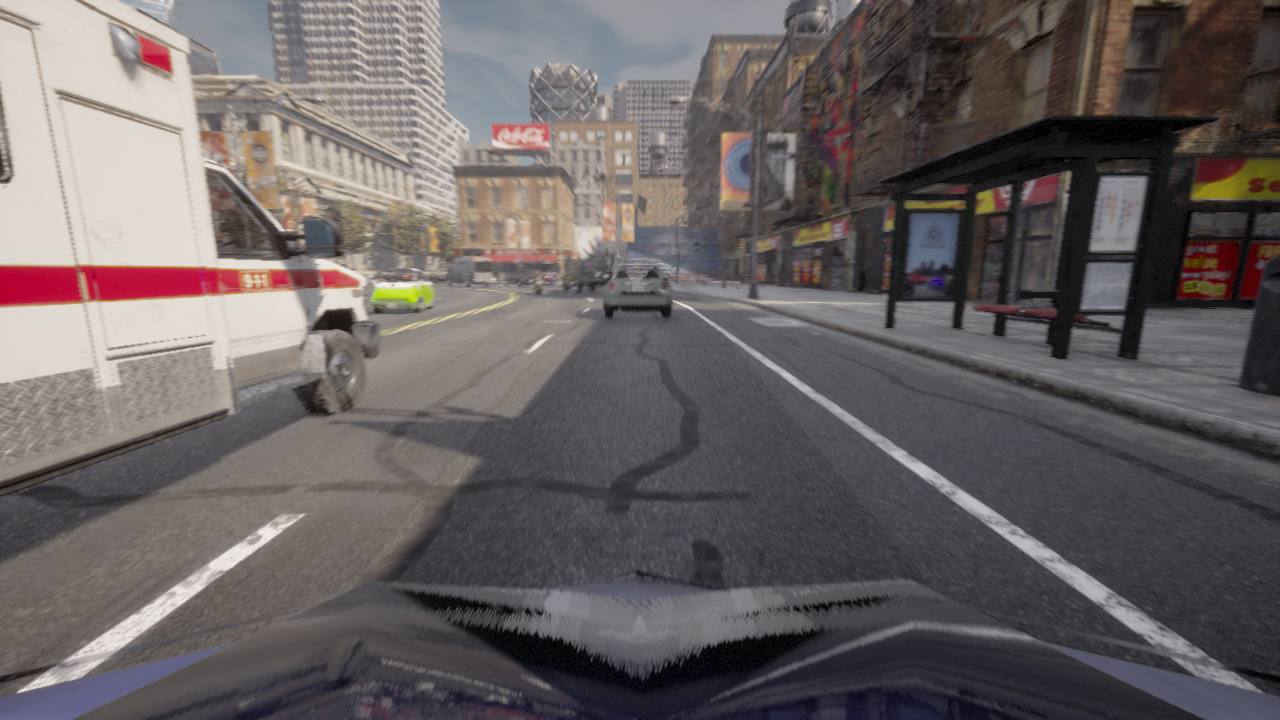cyclist: (0, 569, 1279, 719), (603, 263, 672, 318), (371, 268, 434, 313), (562, 259, 612, 292), (446, 256, 493, 287), (502, 270, 534, 287), (426, 272, 445, 283), (534, 274, 543, 294), (550, 271, 559, 283), (543, 272, 550, 283), (541, 271, 544, 281), (373, 275, 380, 279)
